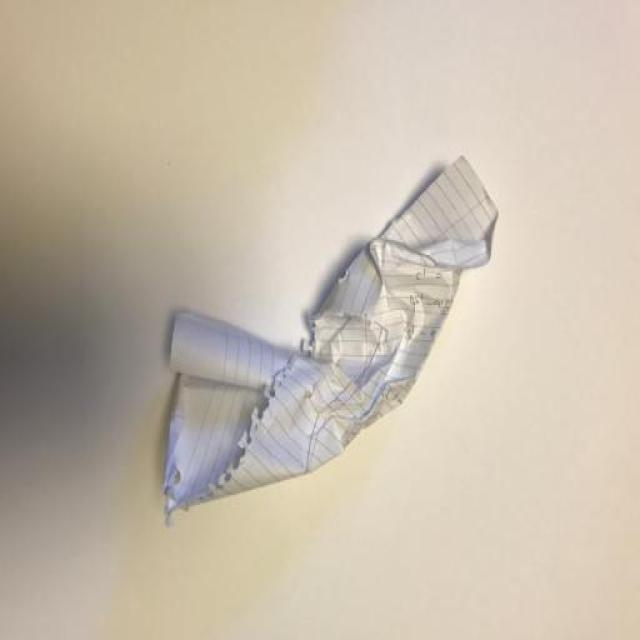paper: (139, 108, 506, 531)
